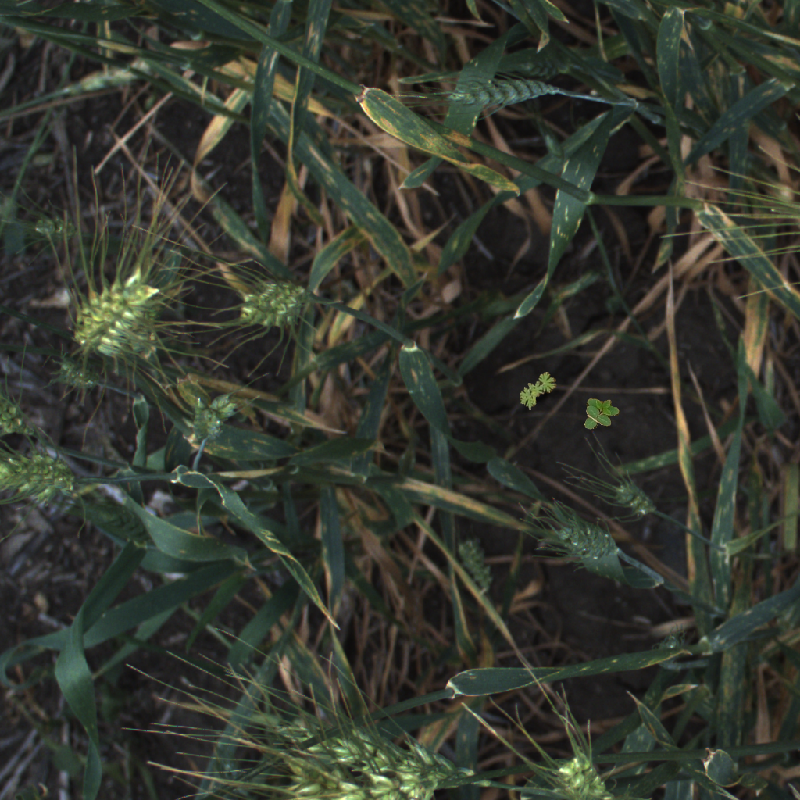spikelet: (296, 715, 470, 784), (72, 271, 157, 358), (225, 267, 323, 341), (1, 447, 90, 510), (448, 75, 560, 115), (596, 466, 666, 525), (545, 511, 619, 560), (553, 750, 626, 799), (186, 392, 236, 443), (454, 538, 495, 592), (1, 382, 39, 440), (30, 204, 81, 238), (57, 360, 102, 387), (526, 59, 567, 80)
weed: (582, 396, 622, 435), (520, 372, 557, 410)
